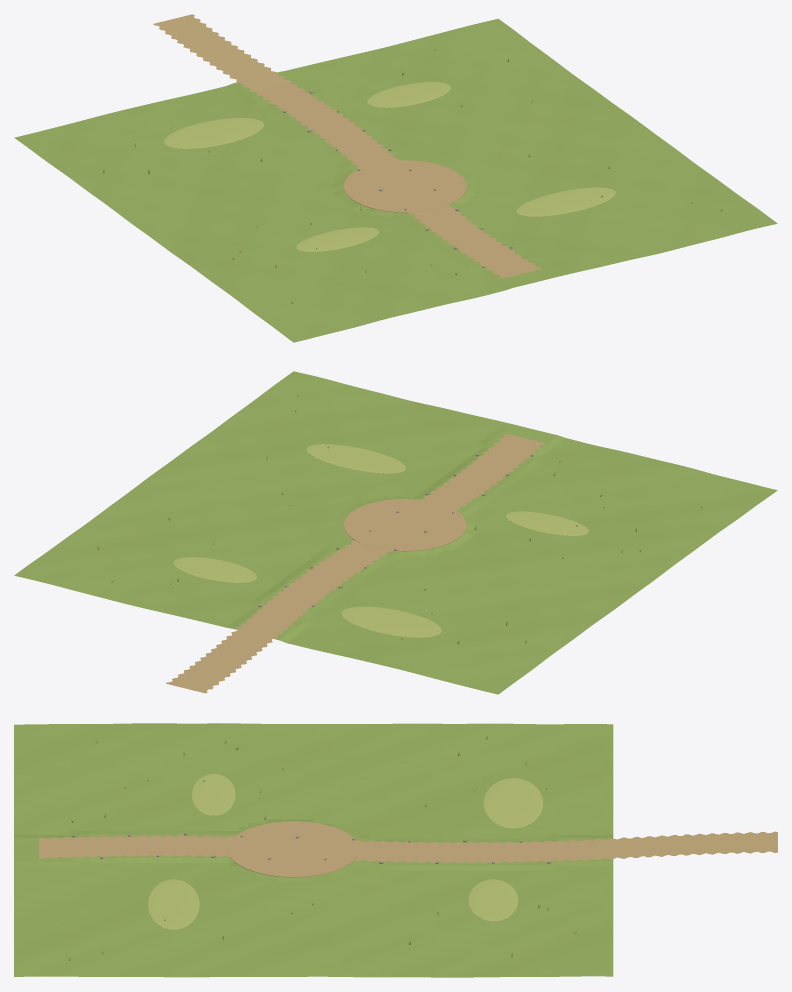
The model's file is ground.glb.
The picture shows the model from 3 angles, top to bottom: view 1: azimuth 30°, elevation 25°; view 2: azimuth 150°, elevation 25°; view 3: azimuth 270°, elevation 25°; orthographic projection. The views are drawn at different scales.
Visible parts, largest first — view 1: ground; view 2: ground; view 3: ground.
Part boxes in pixels (x1,y1,x2,y2): ground: [14, 14, 777, 342]; ground: [14, 371, 777, 694]; ground: [14, 723, 777, 977].
Bounding box in the file's own units: 60 × 0.6443 × 76.5.
